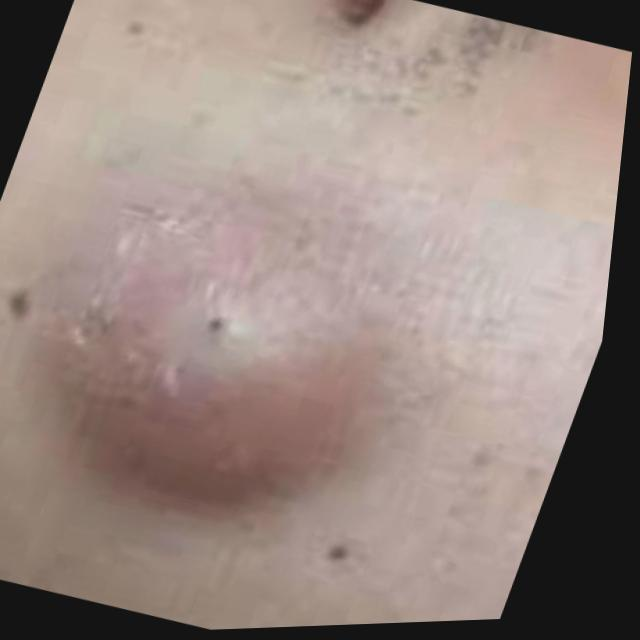nodule: (16, 207, 461, 532)
